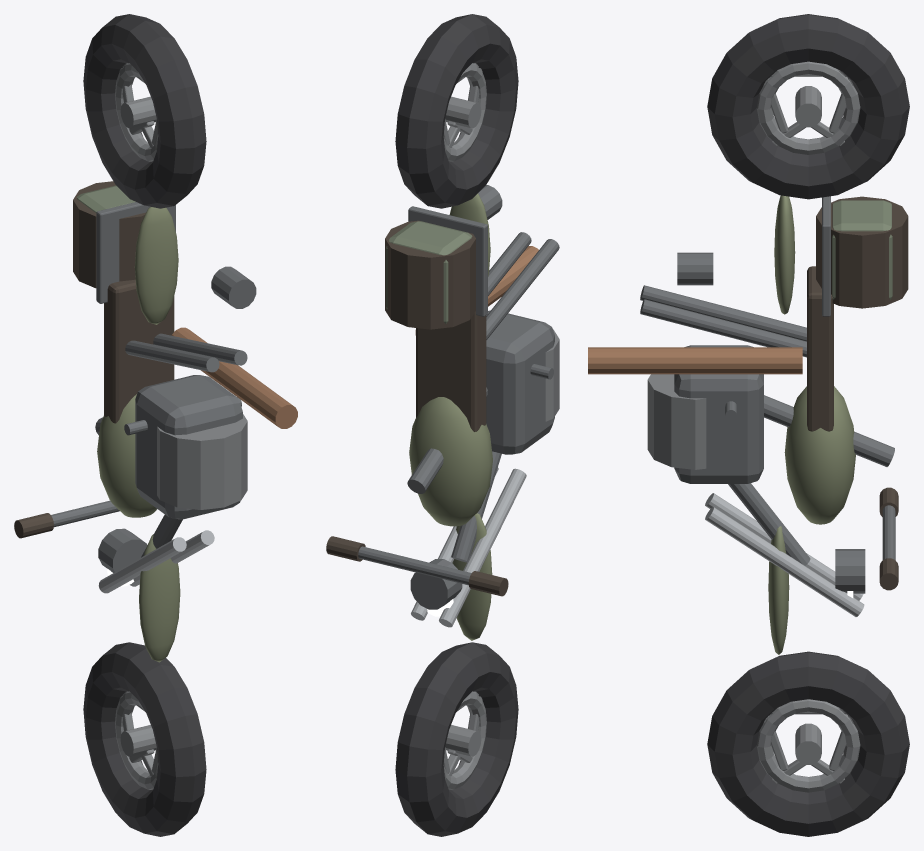
The model's file is motorcycle.glb.
The picture shows the model from 3 angles, left to right: view 1: azimuth 30°, elevation 25°; view 2: azimuth 150°, elevation 25°; view 3: azimuth 270°, elevation 25°; orthographic projection.
Parts seen in each view (by area): view 1: WheelRearPivot_tire, WheelFrontPivot_tire, engine_fin, engine, seat, rear_fender, fuel_tank, front_fender, cargo_strap, exhaust, rack, swingarm (+13 smaller); view 2: WheelFrontPivot_tire, WheelRearPivot_tire, engine, fuel_tank, cargo_strap, seat, cargo_box, fork, rack, front_fender, swingarm, handlebar (+15 smaller); view 3: WheelFrontPivot_tire, WheelRearPivot_tire, engine, fuel_tank, cargo_strap, exhaust, engine_fin, seat, WheelRearPivot_rim, WheelFrontPivot_rim, fork.001, swingarm.001 (+13 smaller).
Boxes of the visible parts, x1,y1,x2,y2 form: WheelRearPivot_tire: (83,14,206,208); WheelFrontPivot_tire: (83,642,206,836); engine_fin: (157,414,247,509); engine: (135,375,242,519); seat: (104,279,174,423); rear_fender: (134,207,178,324); fuel_tank: (97,394,156,517); front_fender: (139,534,180,662); cargo_strap: (73,181,145,288); exhaust: (171,327,297,428); rack: (96,202,175,303); swingarm: (125,340,219,372); WheelFrontPivot_tire: (395,642,518,836); WheelRearPivot_tire: (395,14,518,208); engine: (486,310,554,454); fuel_tank: (409,397,492,526); cargo_strap: (385,220,475,329); seat: (416,311,486,431); cargo_box: (386,221,472,323); fork: (439,468,526,627); rack: (408,206,487,316); front_fender: (452,513,492,640); swingarm: (486,239,559,339); handlebar: (358,546,471,585); WheelFrontPivot_tire: (707,651,909,836); WheelRearPivot_tire: (707,14,909,199); engine: (674,345,763,483); fuel_tank: (784,386,855,524); cargo_strap: (816,196,908,308); exhaust: (588,347,802,374); engine_fin: (647,374,706,469); seat: (807,266,833,431); WheelRearPivot_rim: (756,61,860,154); WheelFrontPivot_rim: (756,699,860,792); fork.001: (705,507,864,616); swingarm.001: (640,299,806,357).
Size of the model in its own units: 0.68 by 3.04 by 1.08.
